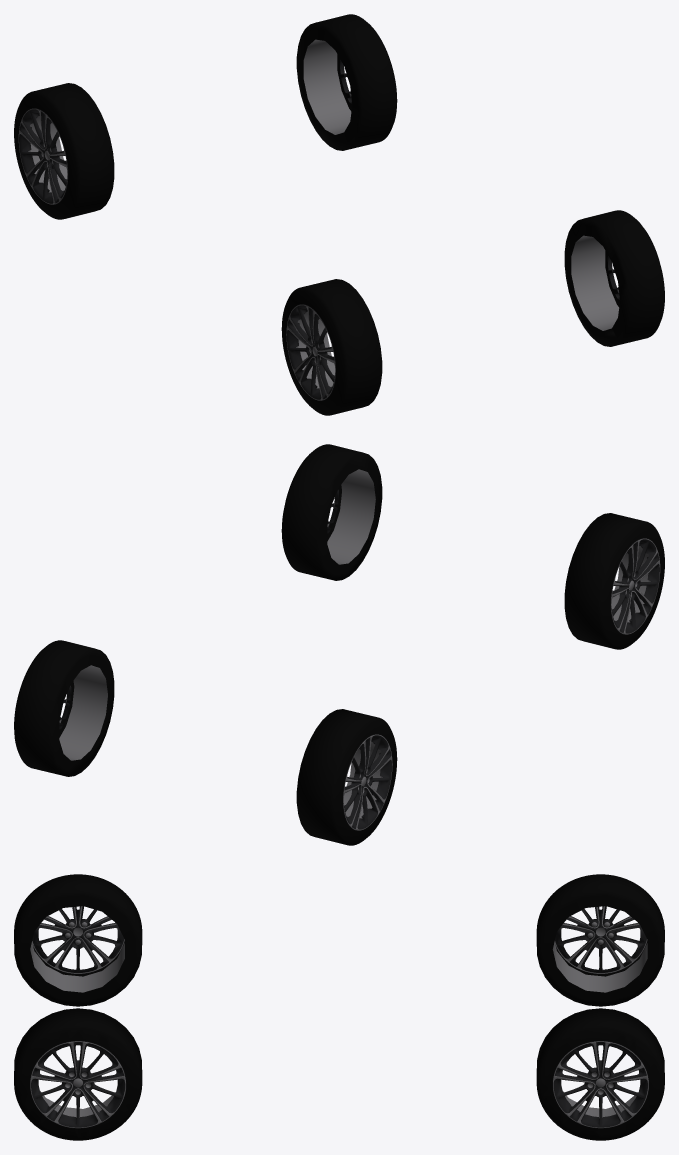
Rendered from wheel-role-raven-coupe.glb.
3 renders of one model, top to bottom at view 1: azimuth 30°, elevation 25°; view 2: azimuth 150°, elevation 25°; view 3: azimuth 270°, elevation 25°, orthographic. The views are drawn at different scales.
Parts seen in each view (by area): view 1: Object_8; view 2: Object_8; view 3: Object_8.
Part boxes in pixels (<box>): Object_8: <box>14,14,664,415</box>; Object_8: <box>14,444,664,845</box>; Object_8: <box>14,874,664,1140</box>.
Bounding box in the file's own units: 125 × 43.79 × 222.
Materials: 1 (1 with a texture image).
